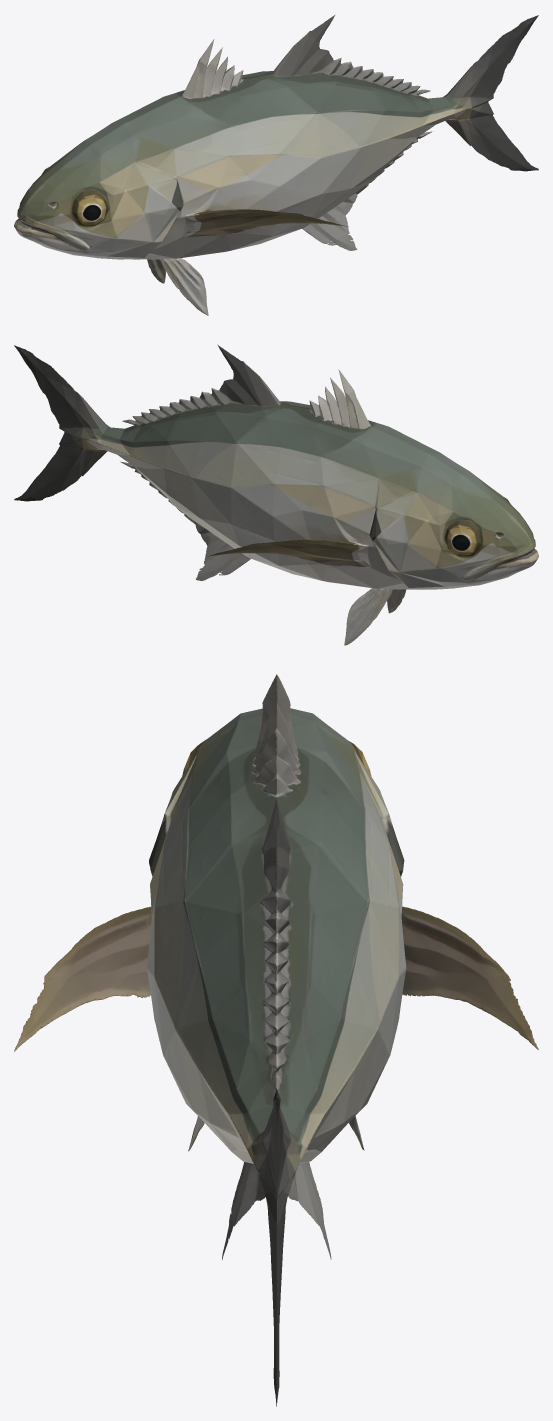
File: Jurel-bonito.glb
The picture shows the model from 3 angles, top to bottom: view 1: azimuth 30°, elevation 25°; view 2: azimuth 150°, elevation 25°; view 3: azimuth 270°, elevation 25°; orthographic projection. The views are drawn at different scales.
Visible parts, largest first — view 1: tripo_node_db90a9bf-8a65-4ae7-a7f1-93d4047ad721; view 2: tripo_node_db90a9bf-8a65-4ae7-a7f1-93d4047ad721; view 3: tripo_node_db90a9bf-8a65-4ae7-a7f1-93d4047ad721.
Part boxes in pixels (bbox=[...]): tripo_node_db90a9bf-8a65-4ae7-a7f1-93d4047ad721: bbox=[14, 14, 538, 315]; tripo_node_db90a9bf-8a65-4ae7-a7f1-93d4047ad721: bbox=[14, 344, 538, 645]; tripo_node_db90a9bf-8a65-4ae7-a7f1-93d4047ad721: bbox=[14, 674, 538, 1406].
Bounding box in the file's own units: 0.9999 × 0.4645 × 0.4381.
Materials: 1 (1 with a texture image).
